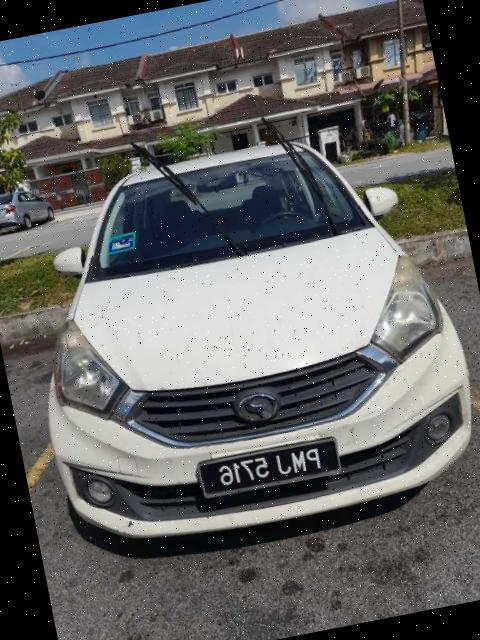License_Plate: (194, 435, 343, 502)
car: (1, 85, 480, 563), (1, 184, 56, 239)
